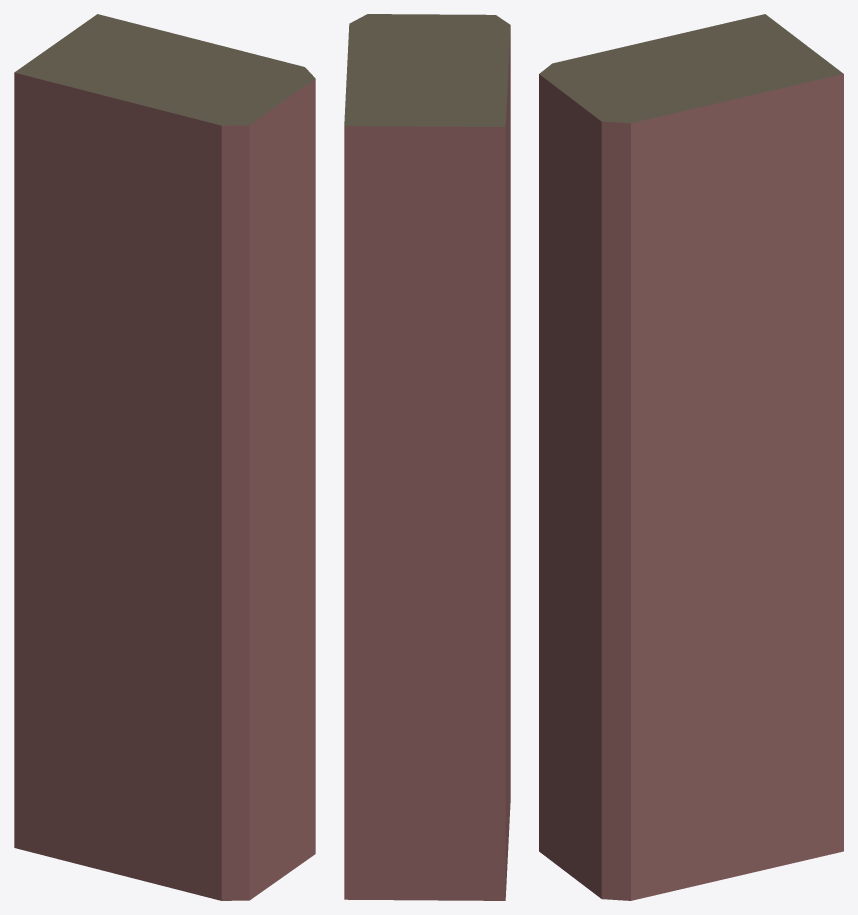
Rendered from nyc-1080745-0.glb.
The picture shows the model from 3 angles, left to right: view 1: azimuth 30°, elevation 25°; view 2: azimuth 150°, elevation 25°; view 3: azimuth 270°, elevation 25°; orthographic projection.
Parts seen in each view (by area): view 1: nyc-1080745-0; view 2: nyc-1080745-0; view 3: nyc-1080745-0.
Boxes of the visible parts, bbox=[...] form: nyc-1080745-0: bbox=[14, 14, 315, 900]; nyc-1080745-0: bbox=[344, 14, 510, 900]; nyc-1080745-0: bbox=[539, 14, 843, 900].
Bounding box in the file's own units: 29.46 × 97.56 × 34.67.
